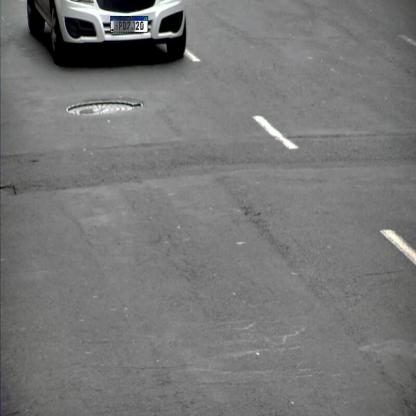PlacaM: (110, 16, 148, 33)
